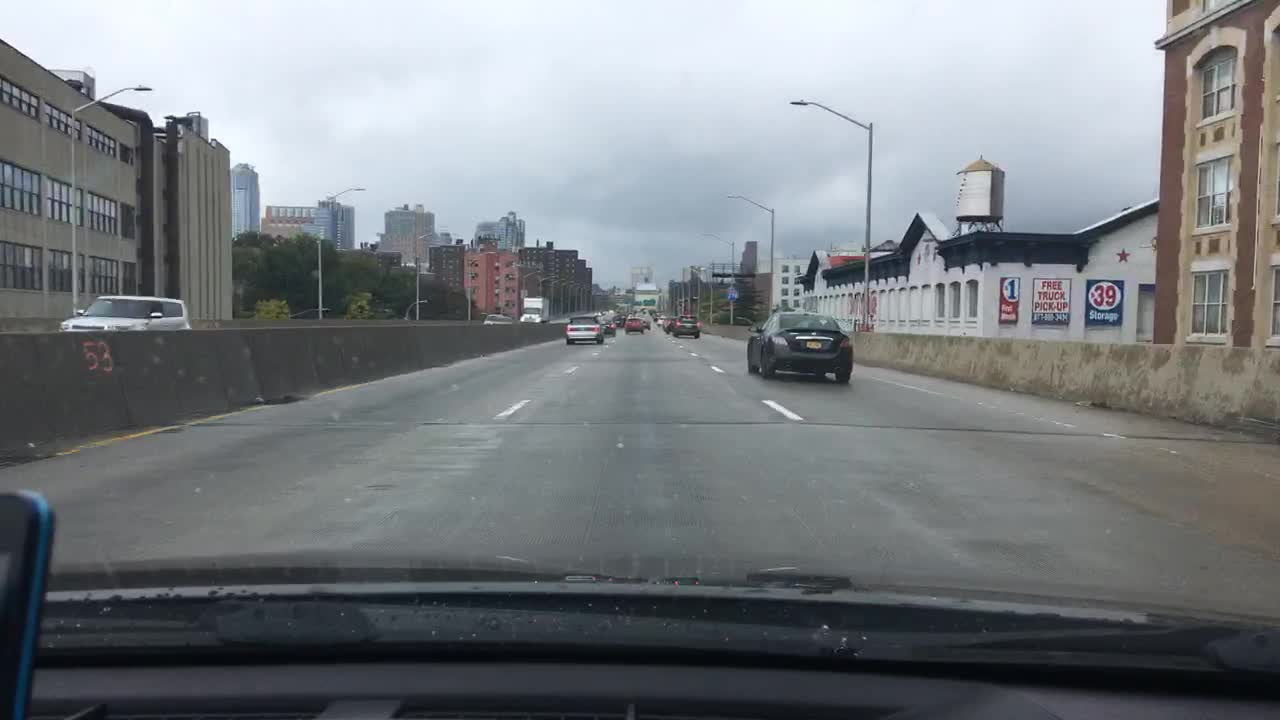car: (746, 309, 853, 385), (57, 293, 192, 332), (565, 311, 606, 344), (668, 312, 702, 336), (598, 314, 618, 337), (662, 314, 678, 333), (495, 314, 516, 327), (633, 313, 649, 329), (483, 314, 502, 327), (612, 314, 628, 329), (651, 310, 662, 322), (656, 313, 665, 327)
traffic sign: (726, 285, 739, 303)
truck: (520, 296, 551, 325)
